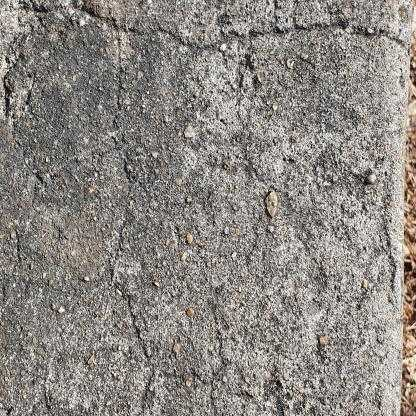crack: (108, 24, 158, 412)
